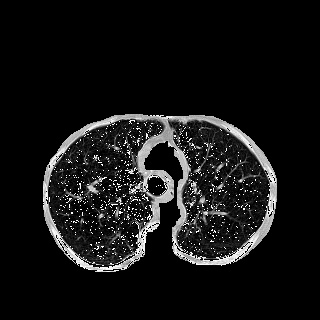PN: (87, 185, 95, 193)
